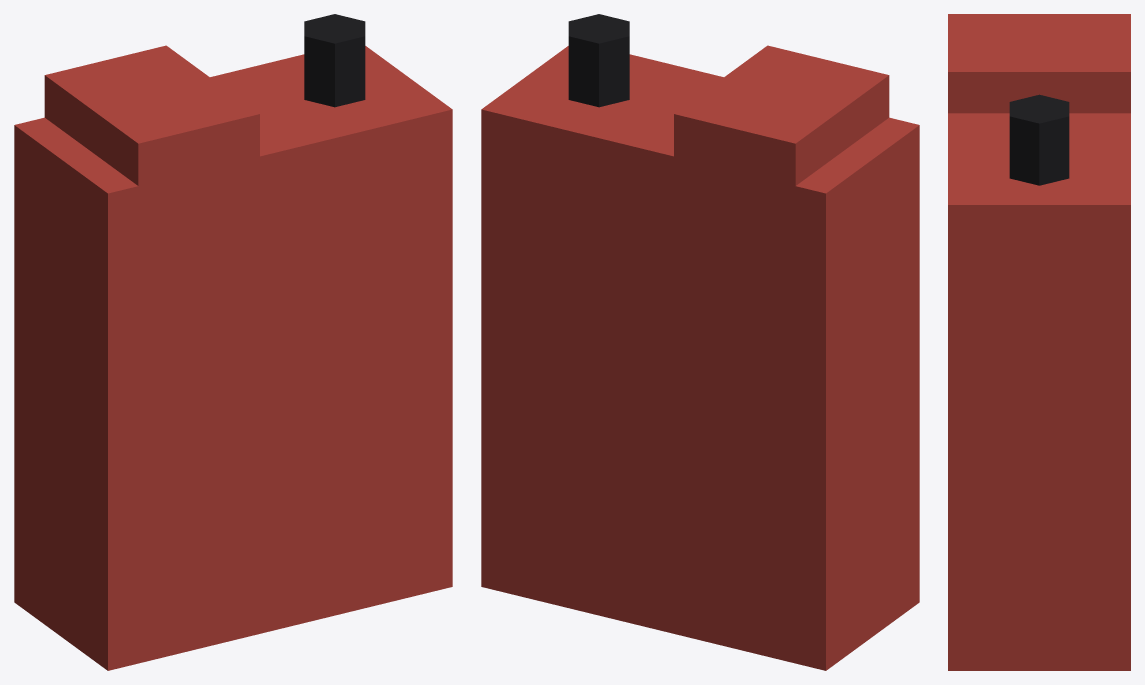
Rendered from GT_Jerrycan_01.glb.
The picture shows the model from 3 angles, left to right: view 1: azimuth 30°, elevation 25°; view 2: azimuth 150°, elevation 25°; view 3: azimuth 270°, elevation 25°; orthographic projection. The views are drawn at different scales.
Parts seen in each view (by area): view 1: GT_Jerrycan_01; view 2: GT_Jerrycan_01; view 3: GT_Jerrycan_01.
Part boxes in pixels (x1=…): GT_Jerrycan_01: x1=14, y1=14, x2=452, y2=670; GT_Jerrycan_01: x1=481, y1=14, x2=919, y2=670; GT_Jerrycan_01: x1=948, y1=14, x2=1130, y2=670.
Size of the model in its own units: 0.34 by 0.51 by 0.16.
Materials: 1 (1 with a texture image).
